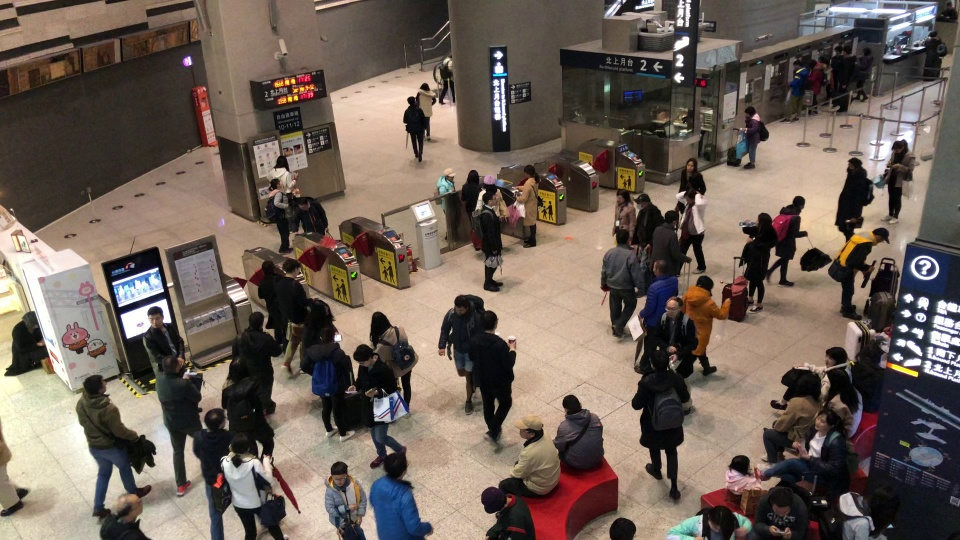person_head: (873, 483, 901, 523), (113, 493, 143, 519), (517, 413, 544, 440), (481, 485, 507, 513), (383, 452, 408, 478), (609, 516, 636, 540), (826, 367, 850, 394), (770, 489, 793, 517), (708, 507, 731, 533), (203, 407, 227, 430), (799, 374, 821, 398), (369, 310, 390, 335), (352, 343, 374, 366), (228, 355, 248, 380), (824, 346, 847, 367), (330, 461, 349, 486), (231, 431, 251, 454), (82, 374, 107, 392), (649, 350, 669, 372), (480, 310, 499, 332), (146, 305, 164, 328), (663, 296, 683, 316), (814, 410, 834, 430), (160, 354, 181, 373), (561, 393, 582, 412), (730, 454, 750, 473), (247, 311, 264, 329), (282, 258, 300, 275), (651, 259, 667, 278), (695, 274, 714, 290), (21, 311, 38, 328), (755, 211, 772, 228), (845, 157, 863, 172), (454, 294, 468, 313), (663, 210, 678, 227), (260, 259, 275, 275), (319, 326, 334, 342), (873, 226, 889, 241), (481, 191, 497, 205), (636, 193, 650, 209), (615, 228, 629, 244), (523, 163, 537, 178), (685, 157, 699, 172), (616, 188, 630, 202), (792, 194, 805, 209), (467, 169, 479, 185), (891, 140, 907, 152), (443, 166, 456, 180), (684, 188, 696, 203), (275, 154, 287, 167), (269, 178, 283, 189), (483, 175, 495, 187), (298, 197, 309, 210), (743, 105, 755, 116), (860, 46, 872, 57), (792, 59, 803, 68), (833, 45, 842, 56), (406, 95, 415, 105), (843, 45, 852, 55), (419, 82, 430, 90), (809, 58, 817, 69), (928, 30, 936, 37), (448, 53, 452, 59)
person_vbox: (74, 374, 152, 518), (630, 349, 691, 499), (759, 410, 859, 488), (346, 343, 407, 468), (219, 432, 289, 539), (761, 367, 863, 440), (753, 373, 824, 472), (154, 354, 203, 497), (467, 310, 516, 448), (299, 326, 356, 442), (142, 305, 203, 413), (435, 294, 484, 415), (827, 226, 889, 321), (220, 355, 275, 462), (369, 452, 434, 540), (191, 407, 234, 540), (497, 414, 561, 500), (632, 258, 679, 375), (369, 311, 419, 420), (654, 296, 699, 416), (769, 346, 853, 410), (681, 275, 731, 376), (272, 258, 314, 378), (599, 228, 644, 336), (818, 482, 901, 539), (232, 311, 282, 400), (552, 394, 606, 471), (738, 211, 778, 313), (765, 195, 808, 288), (470, 191, 504, 292), (833, 156, 873, 239), (478, 485, 536, 539), (2, 311, 48, 377), (753, 487, 810, 540), (881, 139, 916, 224), (666, 505, 751, 540), (675, 188, 708, 275), (324, 461, 367, 524), (266, 154, 299, 236), (651, 209, 692, 275), (100, 493, 152, 540), (512, 164, 540, 248), (265, 177, 295, 254), (475, 174, 504, 250), (258, 259, 283, 344), (739, 105, 769, 170), (677, 157, 708, 219), (459, 169, 482, 252), (432, 166, 457, 242), (630, 192, 664, 247), (779, 59, 808, 123), (723, 454, 763, 496), (835, 44, 858, 113), (403, 95, 426, 163), (292, 195, 329, 236), (804, 58, 828, 118), (821, 44, 843, 109), (851, 46, 874, 103), (415, 82, 437, 140), (611, 188, 636, 237), (437, 52, 456, 105), (921, 29, 947, 57)
